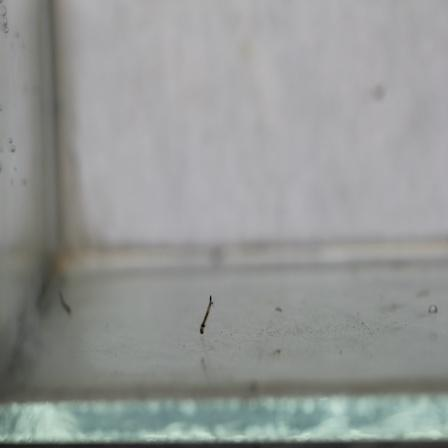Jentik-Nyamuk: (194, 289, 219, 341)
